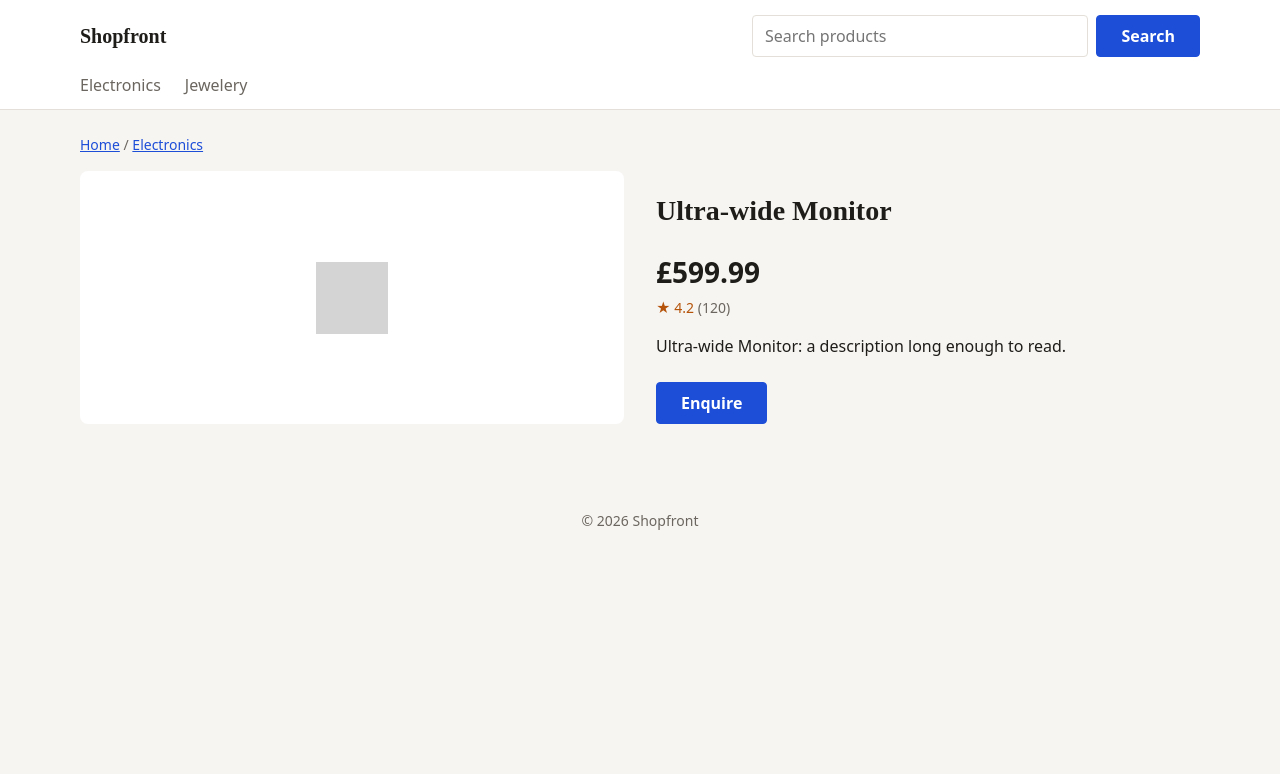
Test case: Enquiry › shows the server’s field errors next to the fields
Step 1. Click the button "Enquire" → {"x": 712, "y": 403}, box left=656, top=382, right=767, bottom=424
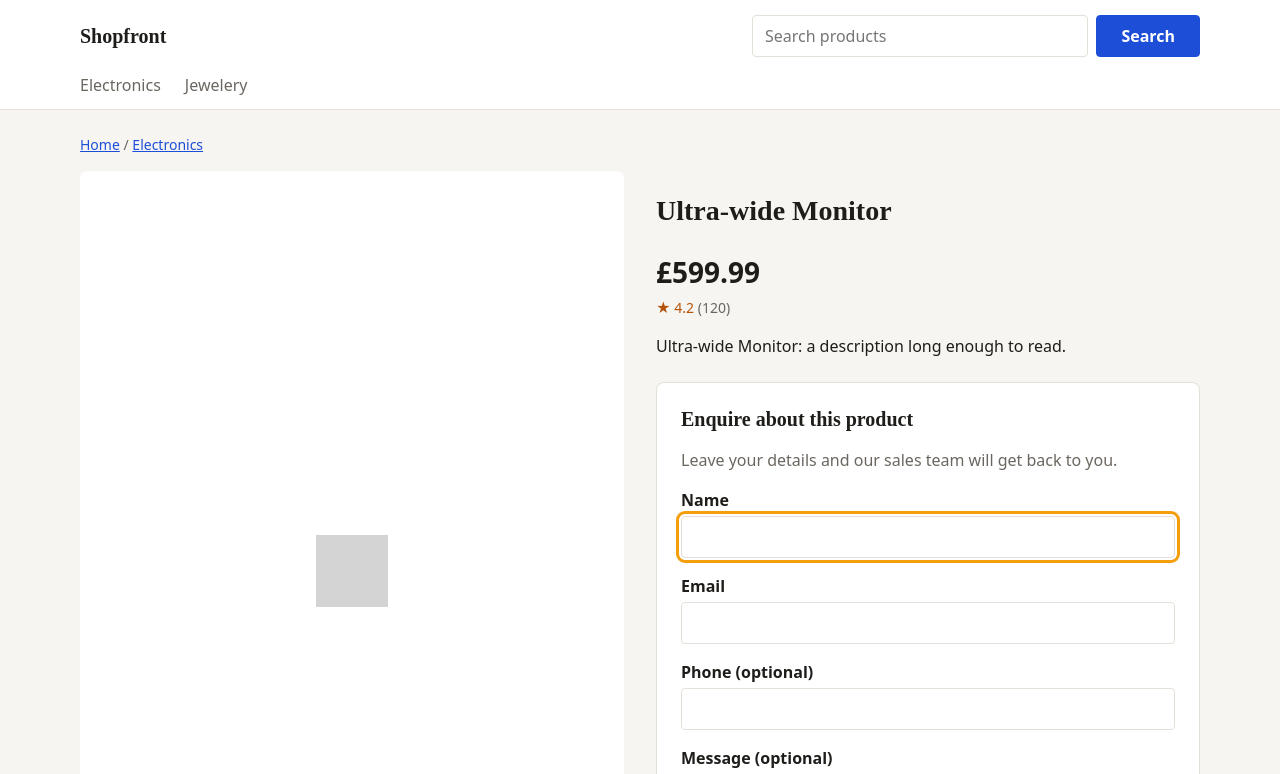
Step 2. Type "Ada Lovelace" into the field labelled "Name" → {"x": 928, "y": 537}, box left=681, top=516, right=1175, bottom=558
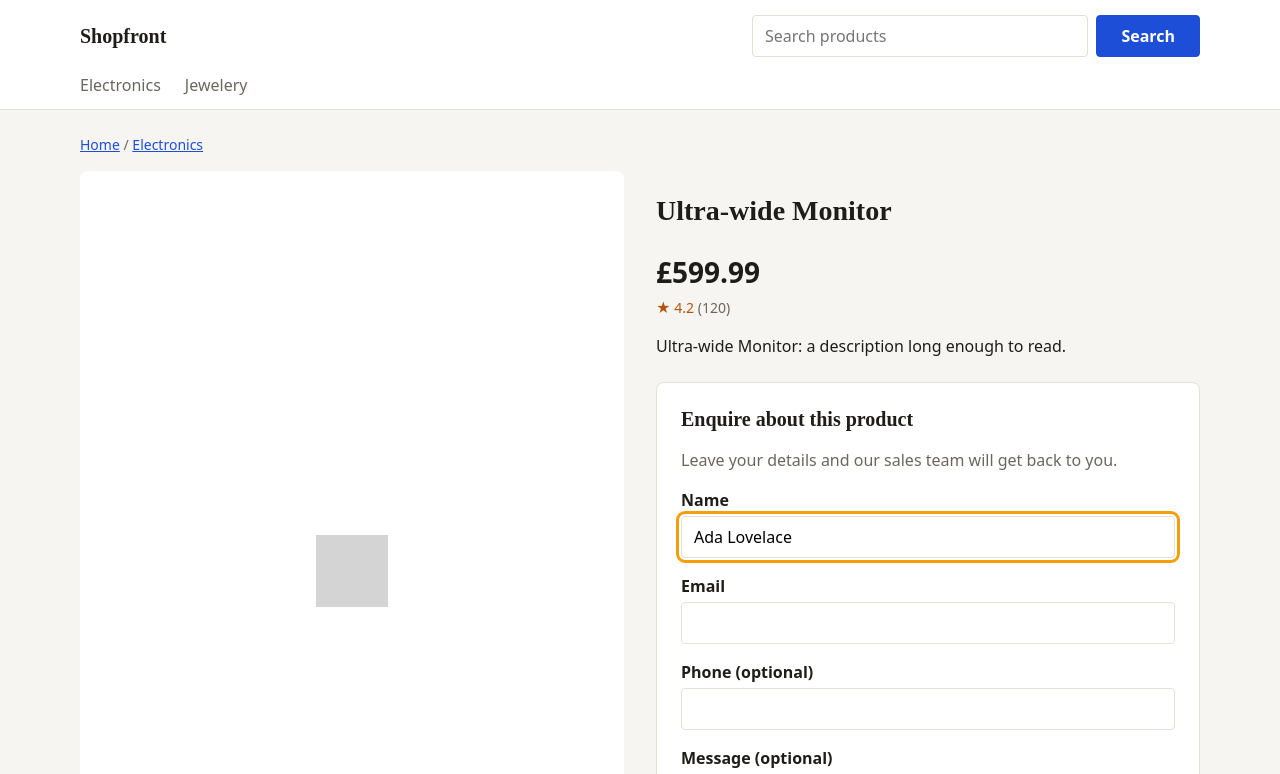
Step 3. Type "ada@example.com" into the field labelled "Email" → {"x": 928, "y": 623}, box left=681, top=602, right=1175, bottom=644
(page scrolled)
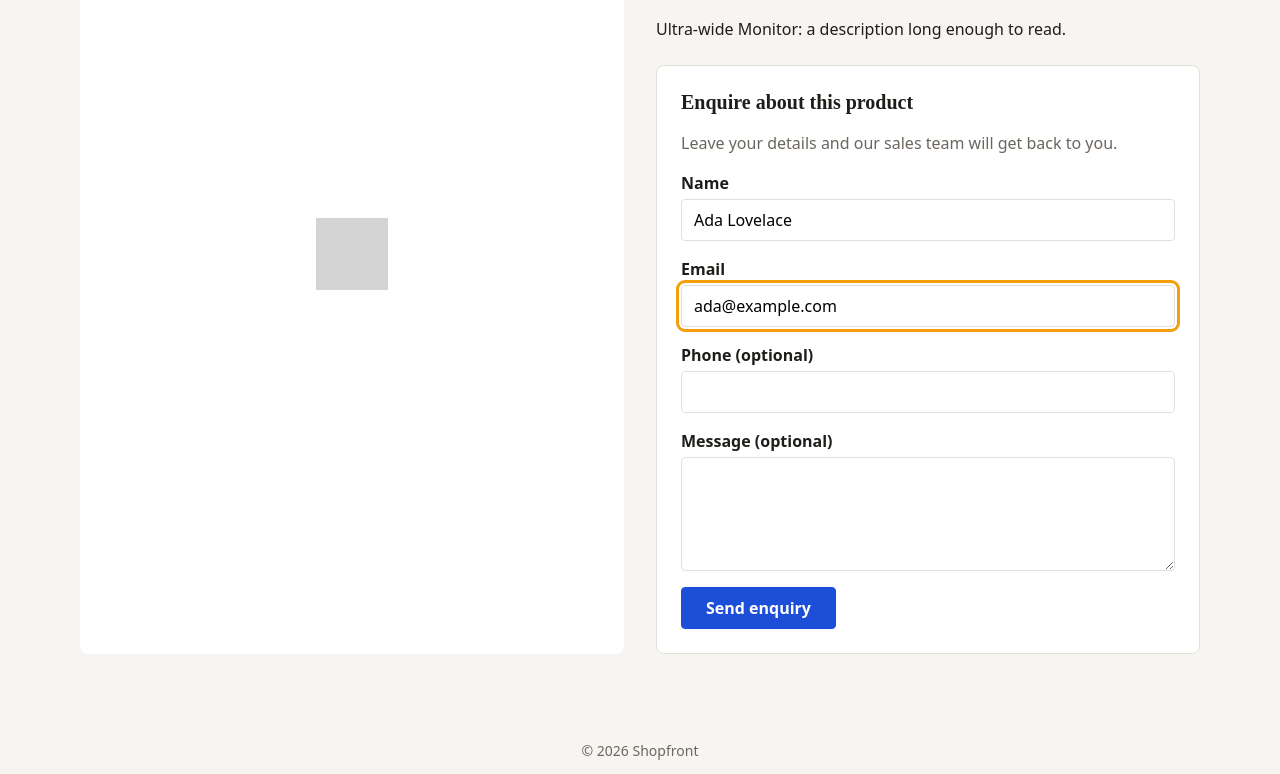
Step 4. Type "Is it curved?" into the text box labelled "Message (optional)" → {"x": 928, "y": 514}, box left=681, top=457, right=1175, bottom=571
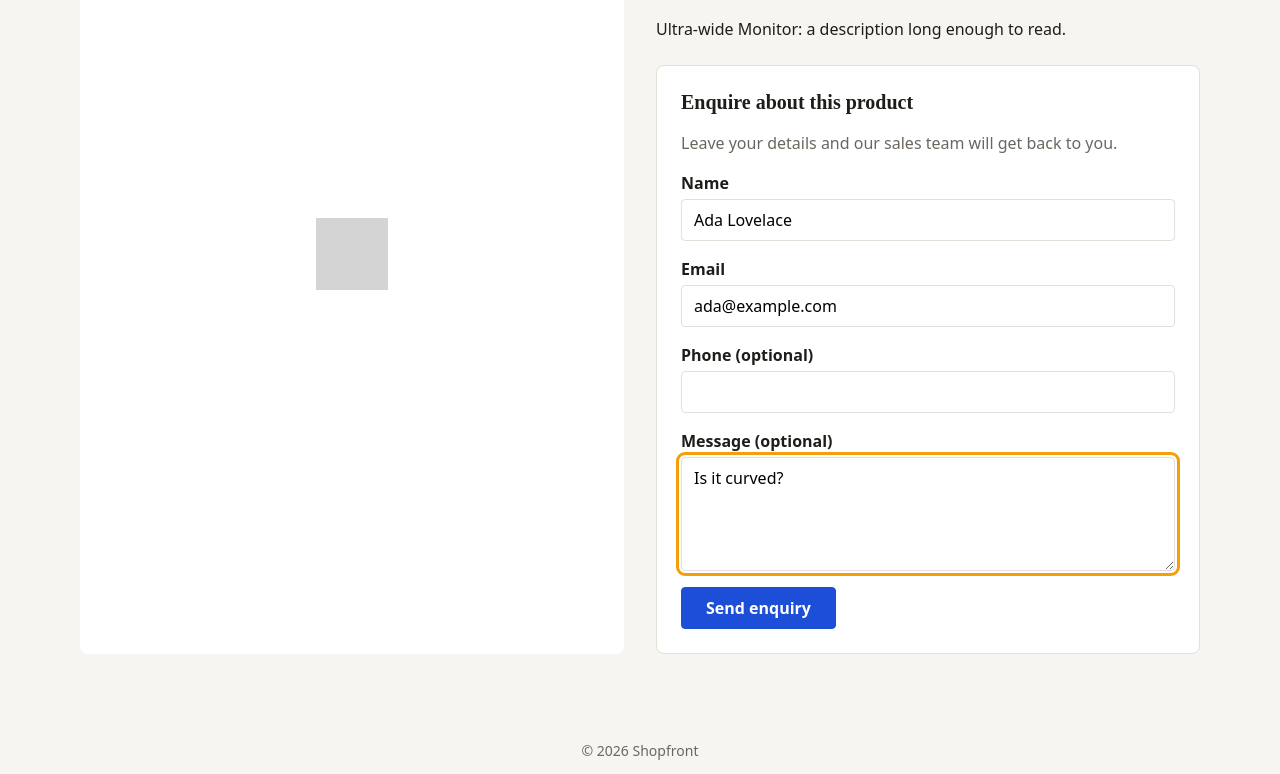
Step 5. Click the button "Send enquiry" → {"x": 758, "y": 608}, box left=681, top=587, right=836, bottom=629
(page scrolled)
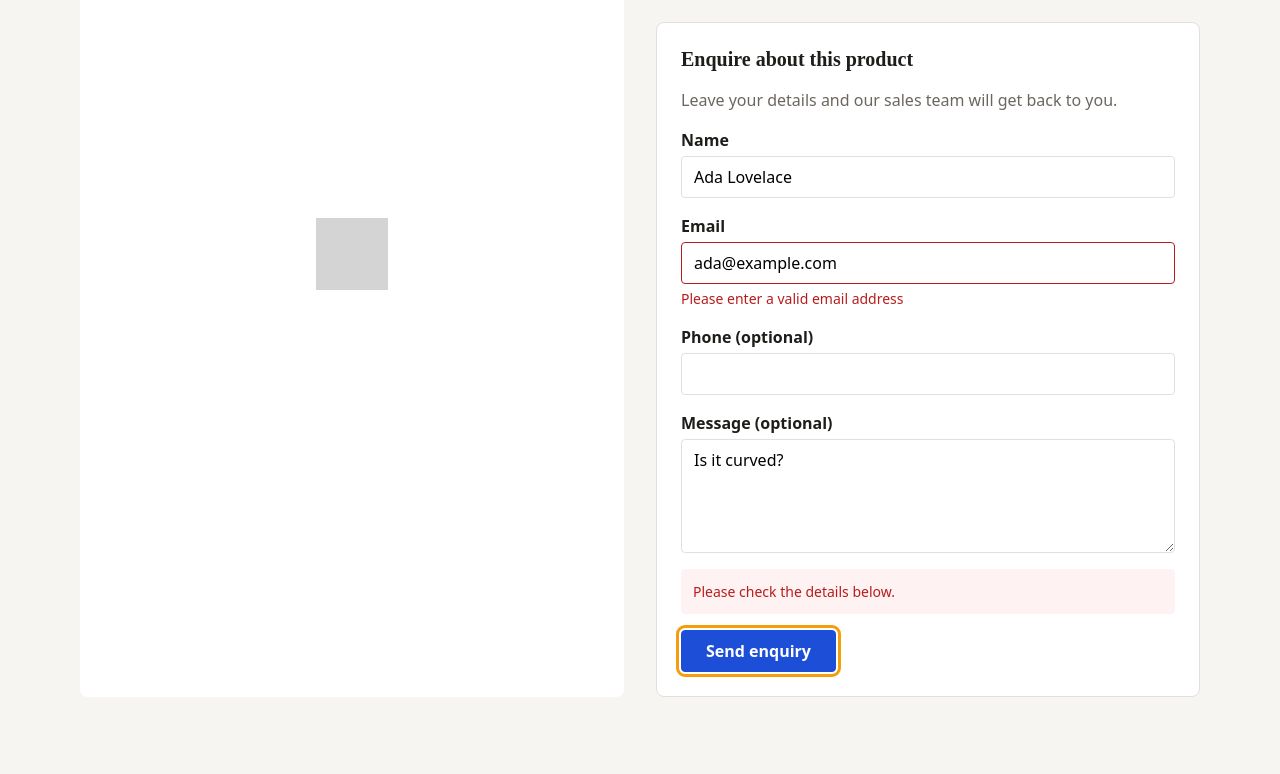
Now the text "Please enter a valid email address" is shown, box left=681, top=289, right=904, bottom=308
